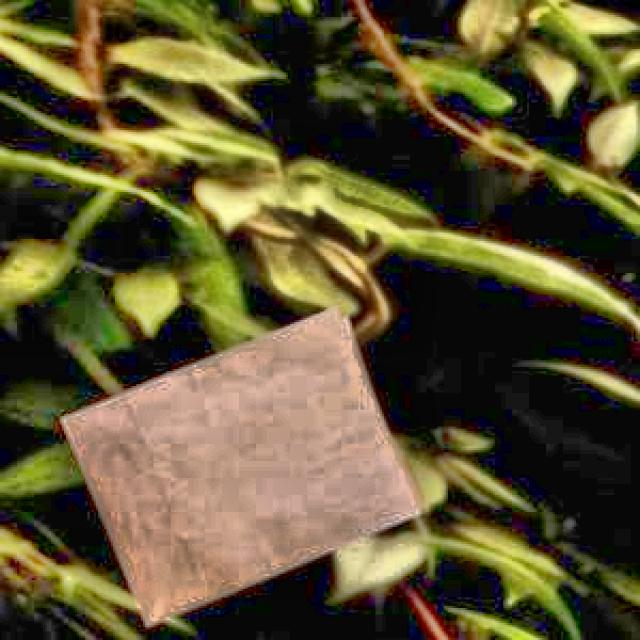Paper-bag: (53, 290, 454, 640)
